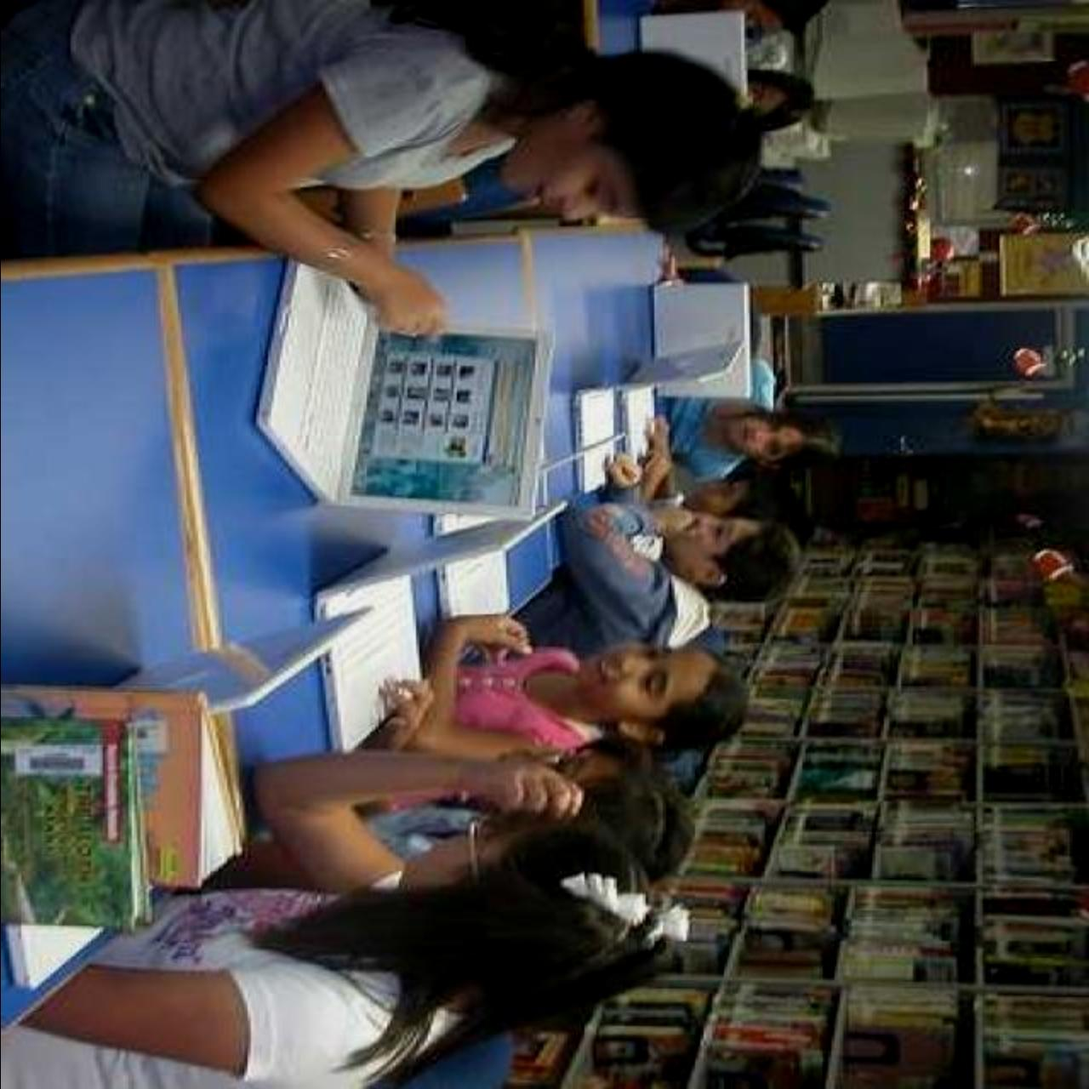laptop: (16, 611, 355, 961), (254, 252, 542, 517), (315, 508, 556, 751), (558, 290, 766, 513)
